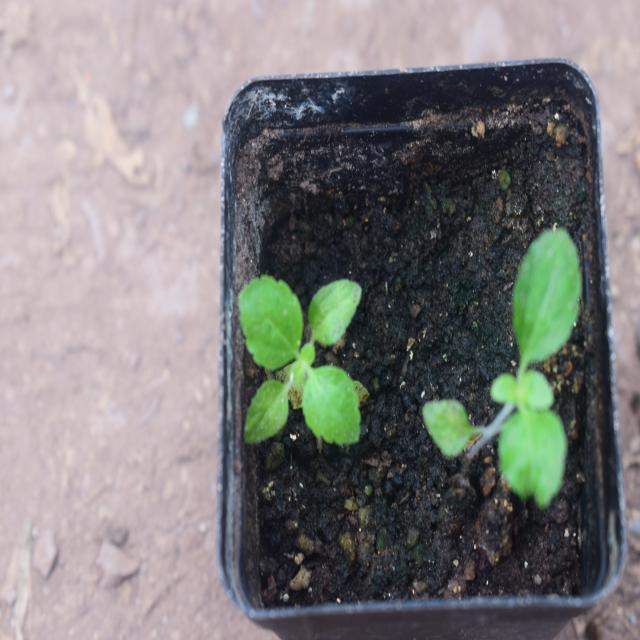billygoat_weed: (436, 214, 596, 529), (239, 273, 370, 477)
